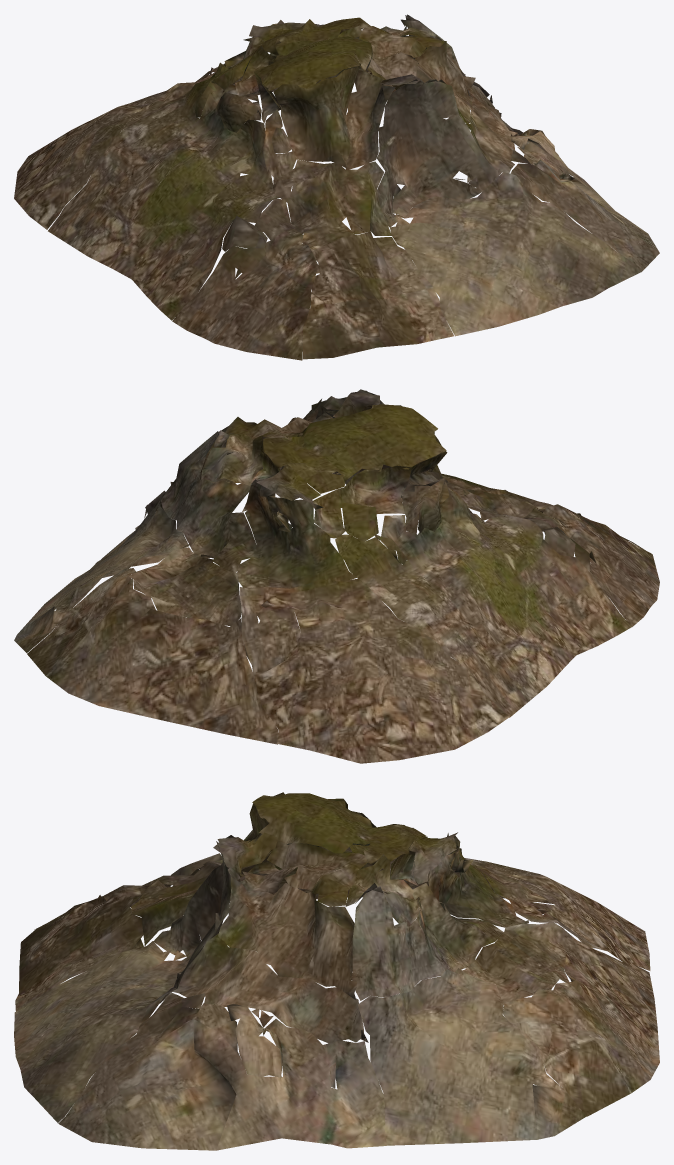
Rendered from stump.glb.
The picture shows the model from 3 angles, top to bottom: view 1: azimuth 30°, elevation 25°; view 2: azimuth 150°, elevation 25°; view 3: azimuth 270°, elevation 25°; orthographic projection. The views are drawn at different scales.
Parts seen in each view (by area): view 1: stump; view 2: stump; view 3: stump.
Part boxes in pixels (left/top/right/bottom): stump: left=14, top=14, right=659, bottom=360; stump: left=14, top=389, right=659, bottom=763; stump: left=14, top=792, right=659, bottom=1150.
Size of the model in its own units: 1.49 by 0.601 by 1.67.
1 material, 1 textured.
